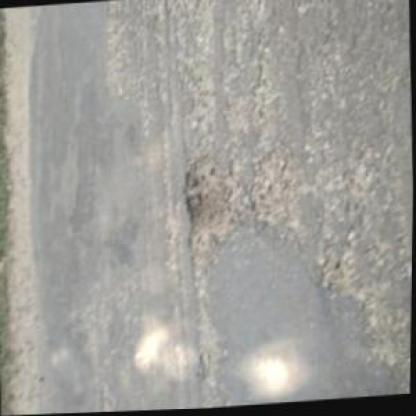pothole: (179, 154, 245, 254)
